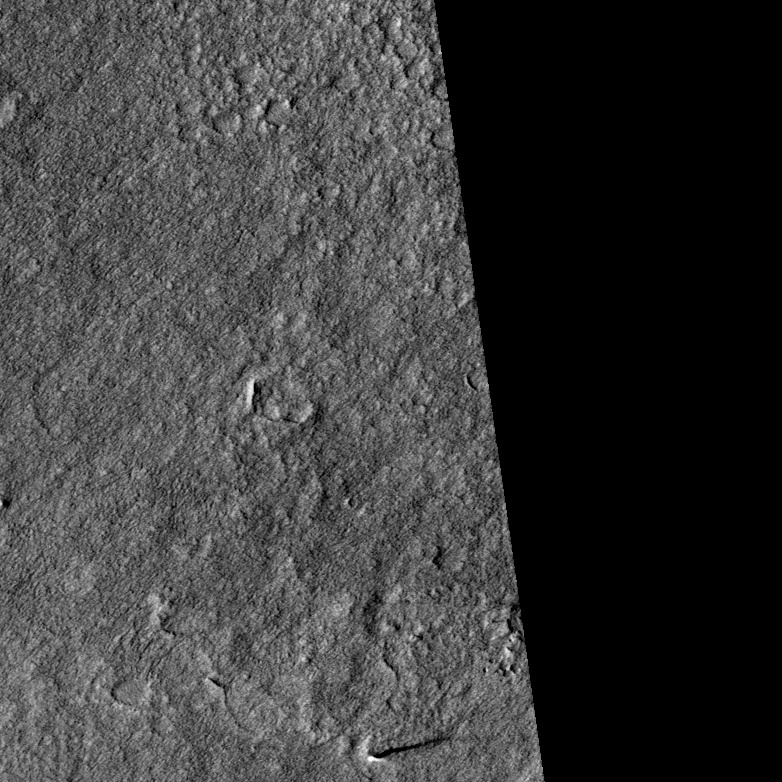dust_devil: (365, 735, 447, 765)
